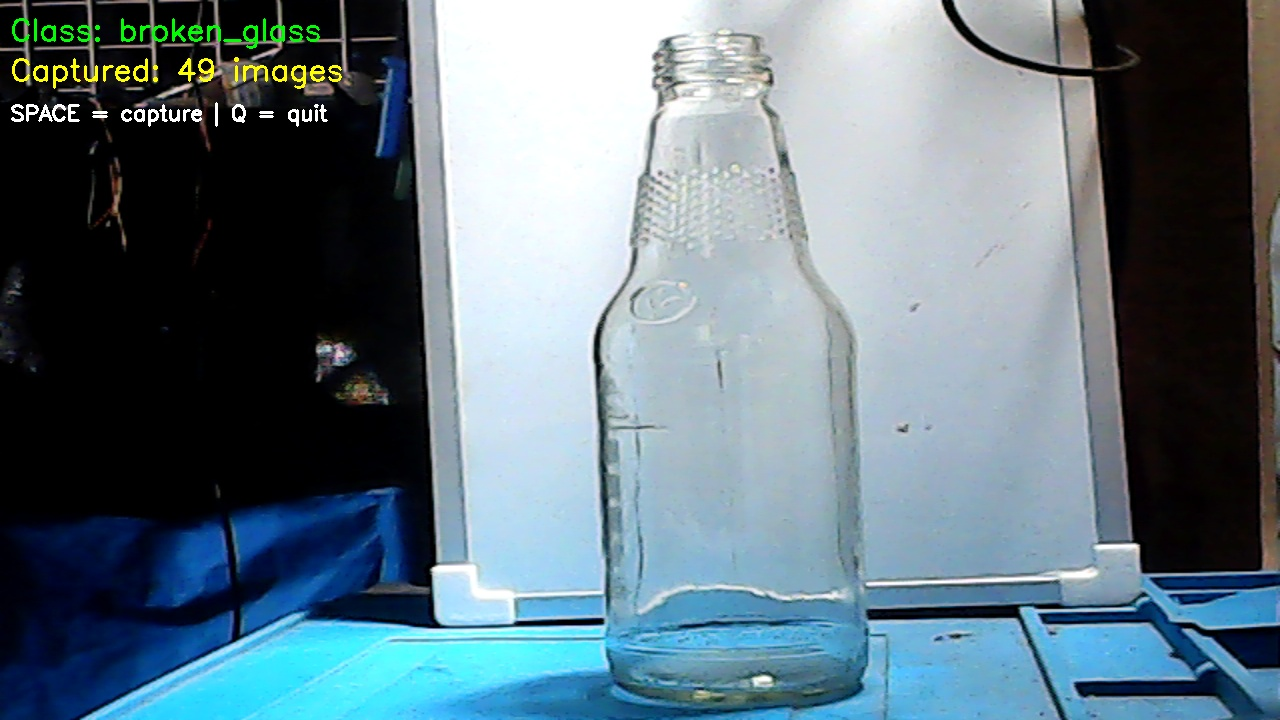broken_glass: (581, 12, 865, 688)
